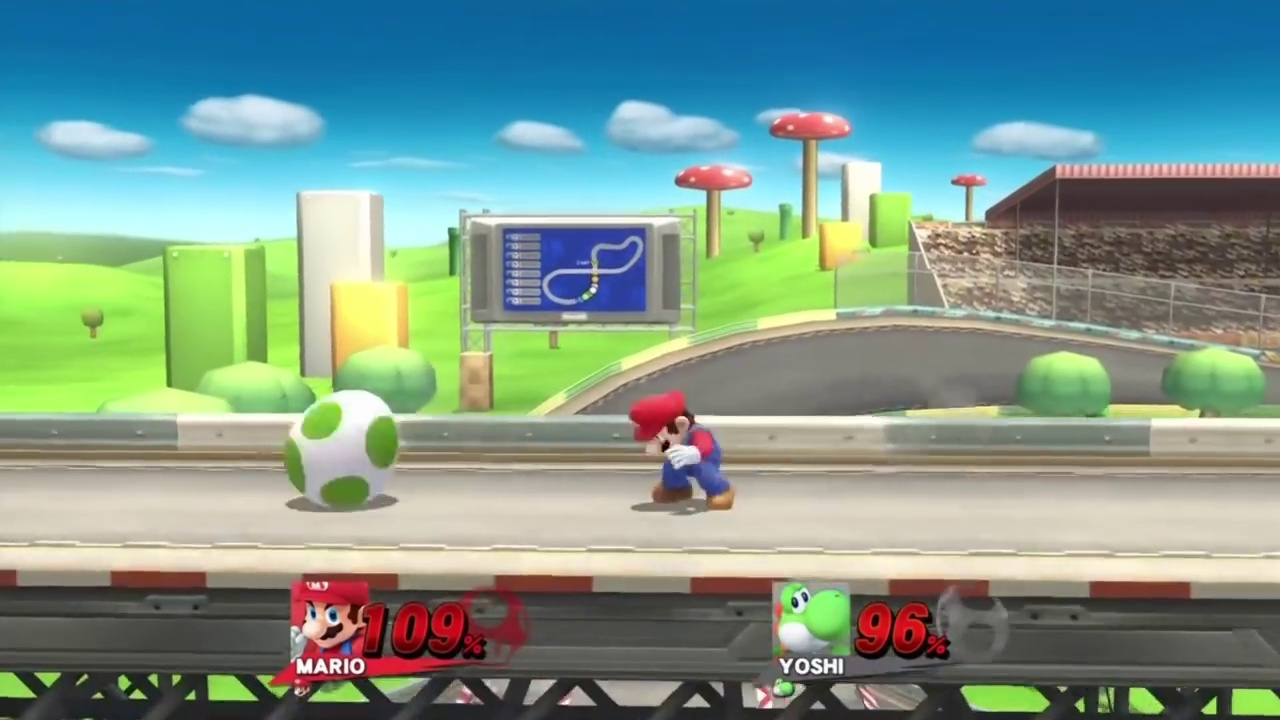Mario: (630, 390, 734, 508)
